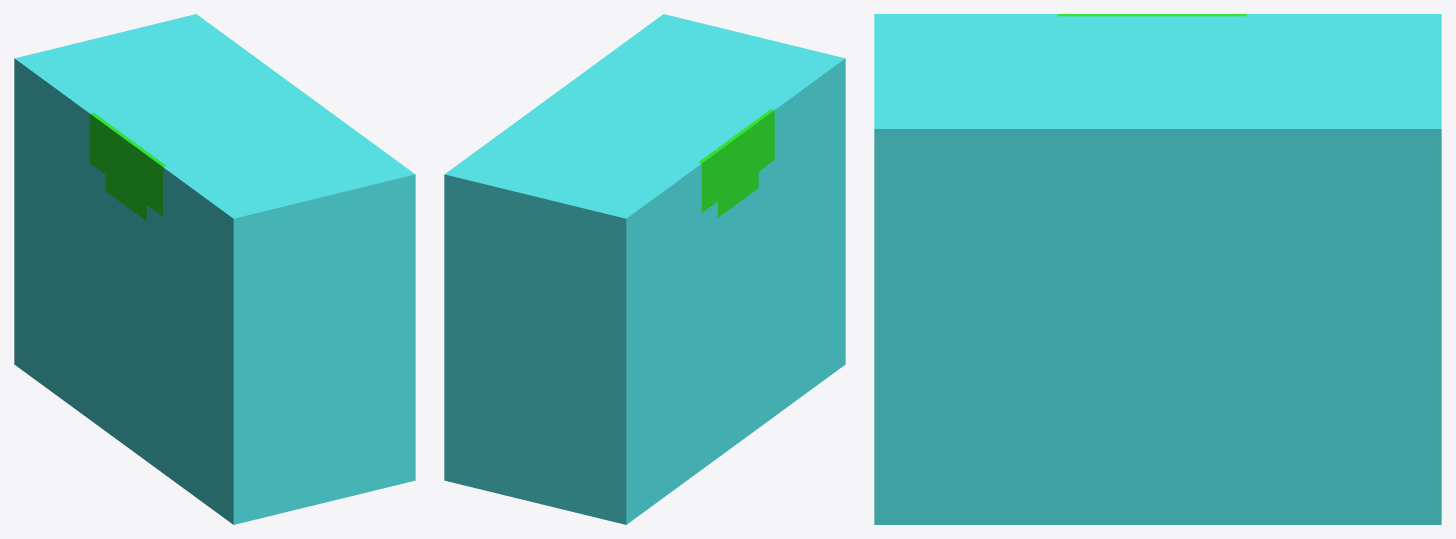
The model's file is mini_zombie_body.obj.
3 renders of one model, left to right at view 1: azimuth 30°, elevation 25°; view 2: azimuth 150°, elevation 25°; view 3: azimuth 270°, elevation 25°, orthographic. The views are drawn at different scales.
Size of the model in its own units: 4.6 by 7.4 by 9.6.
Materials: 1 (1 with a texture image).
